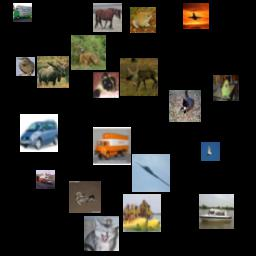airplane: (132, 154, 170, 192), (183, 3, 209, 29)
automobile: (20, 114, 58, 152)
bird: (69, 181, 101, 213), (213, 75, 239, 101), (201, 142, 220, 161), (16, 57, 35, 76)
cat: (84, 216, 119, 251), (169, 90, 201, 122), (93, 72, 119, 98)
deer: (120, 58, 158, 96), (71, 35, 106, 70), (37, 56, 69, 88)
frog: (130, 7, 156, 33)
ship: (123, 194, 161, 232), (199, 194, 234, 229)
truck: (93, 127, 131, 165), (13, 3, 32, 22), (36, 170, 55, 189)
